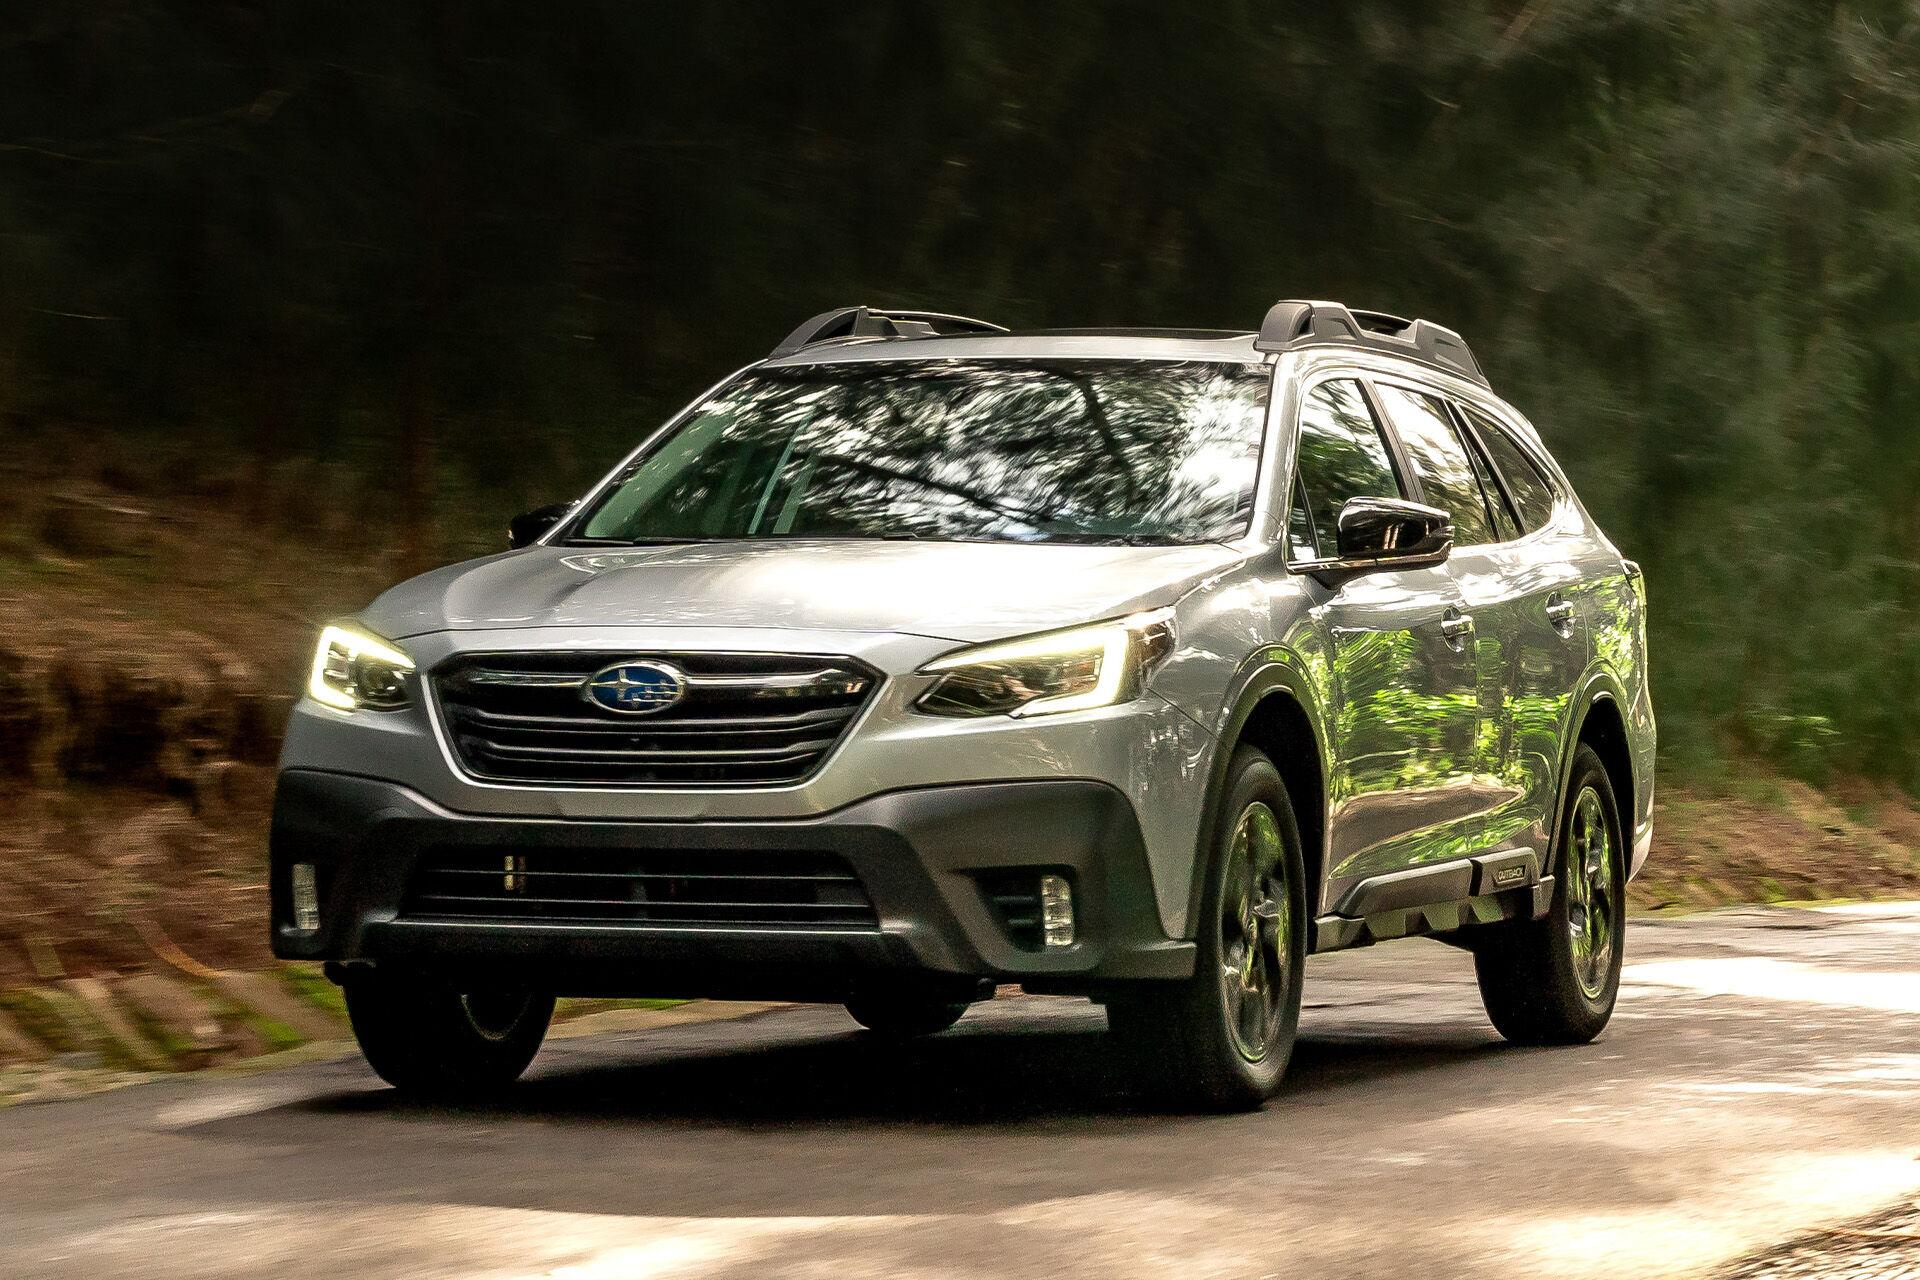subaru: (563, 649, 721, 746)
